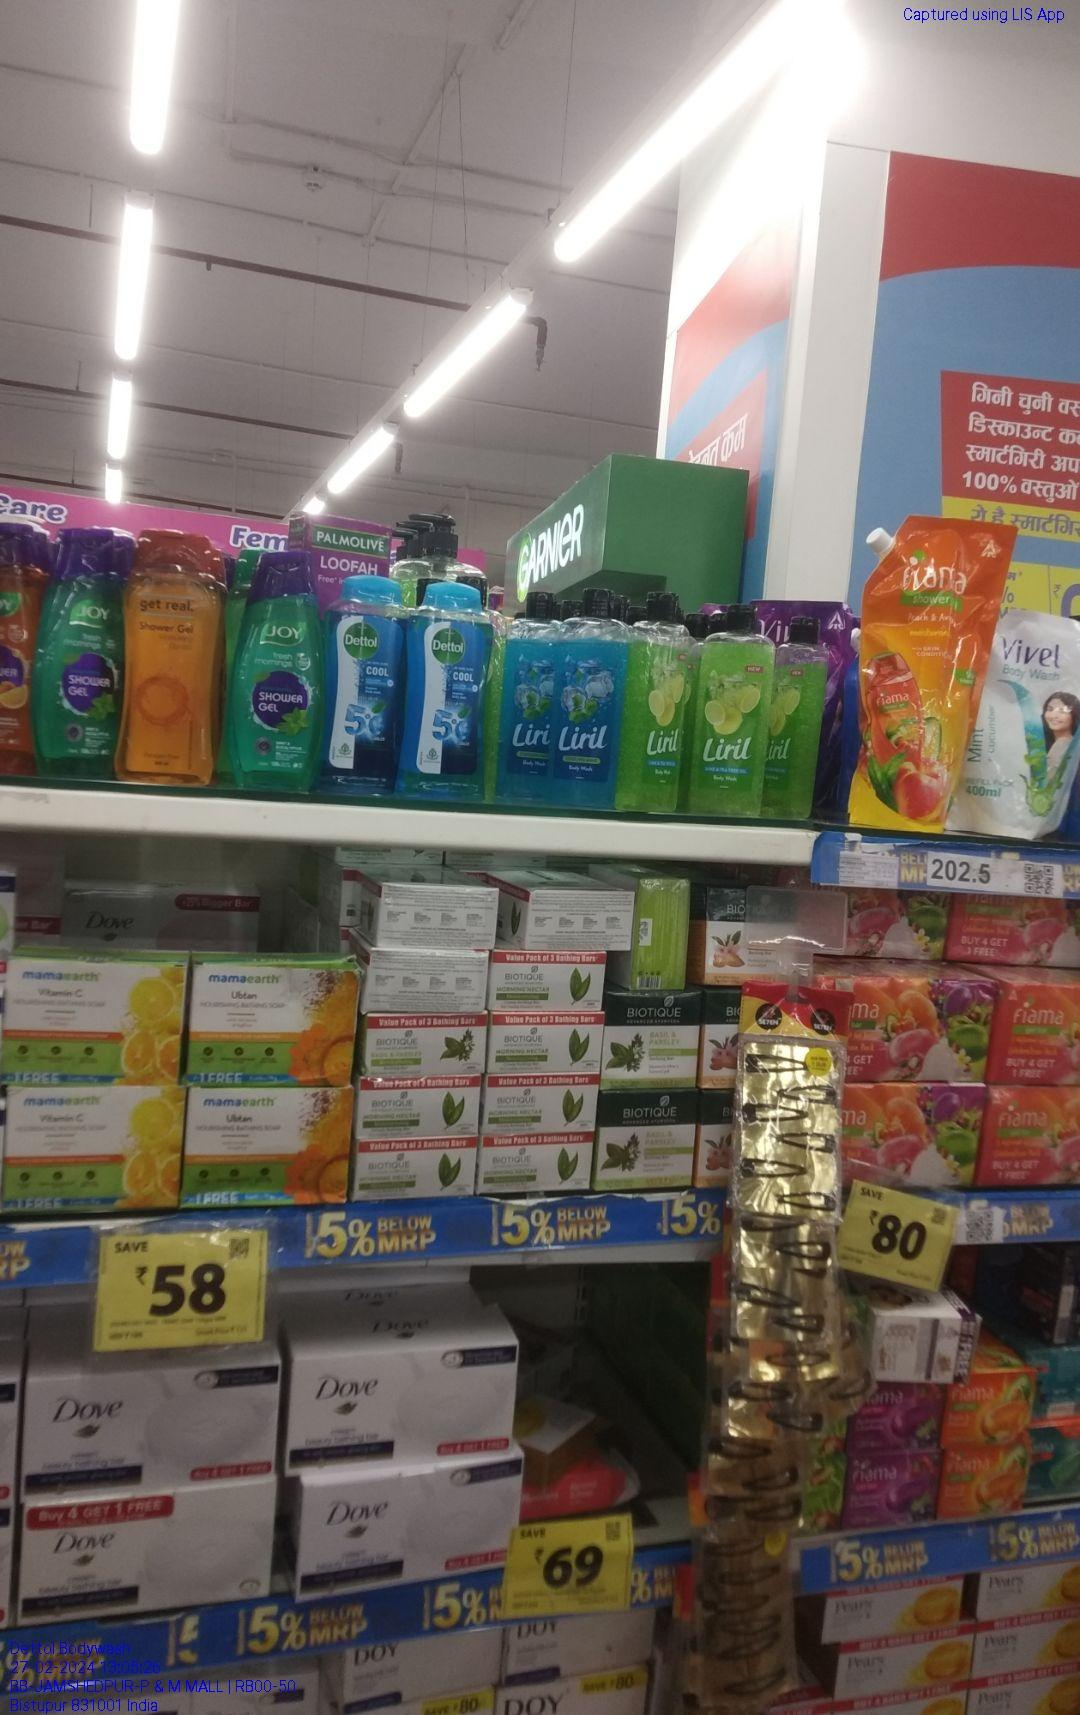Dettol_Bodywash_Cool: (404, 576, 486, 806), (327, 568, 401, 801)
Get_Real_Shower_Gel_Moisturising_Glycerin_300ML: (123, 524, 212, 786)
Joy_Shower_Gel_Mint_and_Eucalyptus_250ML: (37, 517, 119, 788), (231, 545, 320, 792)
Liril_Cooling_Mint_Body_Wash_250ML: (557, 583, 617, 812), (503, 581, 551, 806)
Liril_Lime_and_Tea_Tree_Oil_Body_Wash_250ML: (697, 606, 765, 830), (626, 583, 687, 815), (768, 606, 817, 826)
